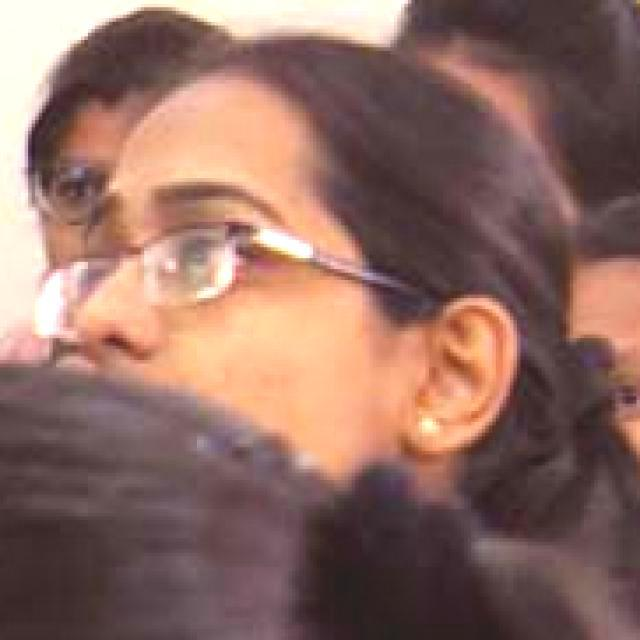Looking forward: (81, 39, 542, 492)
